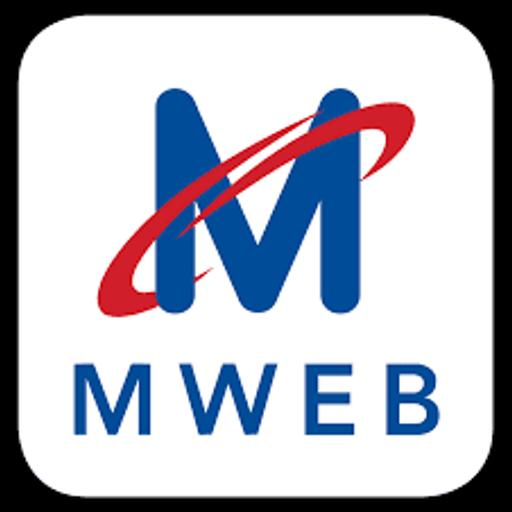MWeb: (3, 0, 508, 512)
